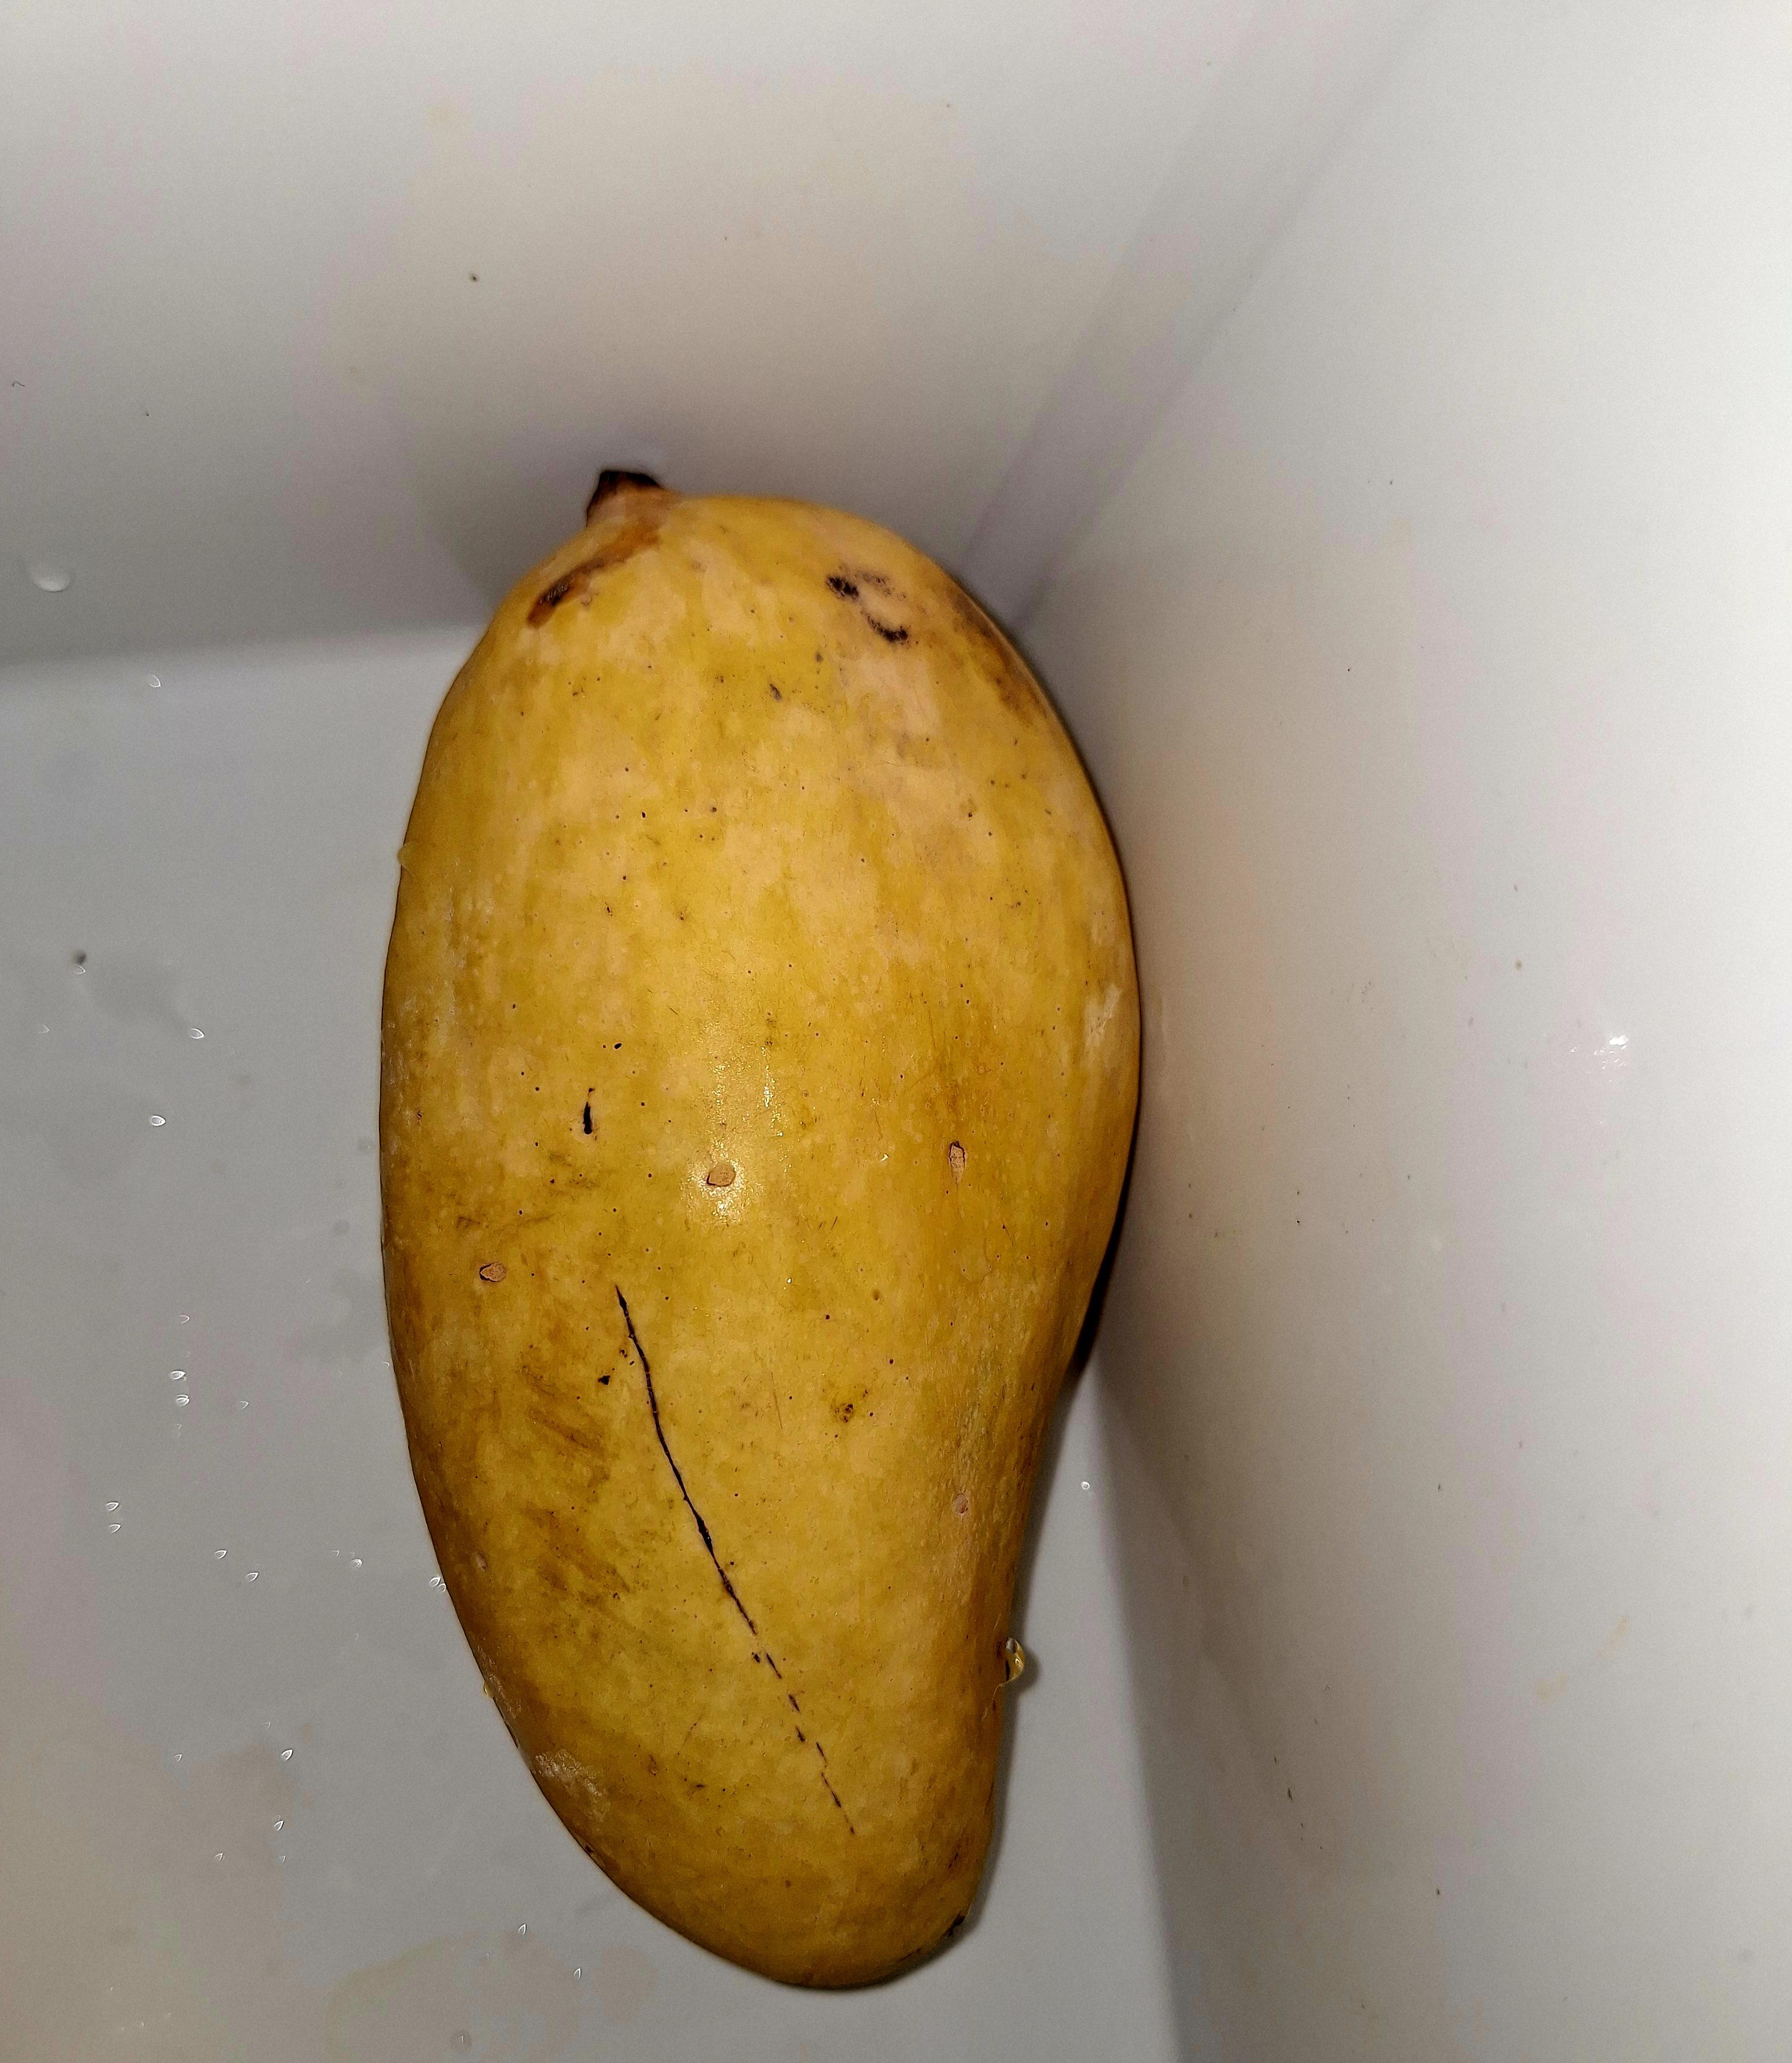mango: (375, 463, 1143, 1991)
